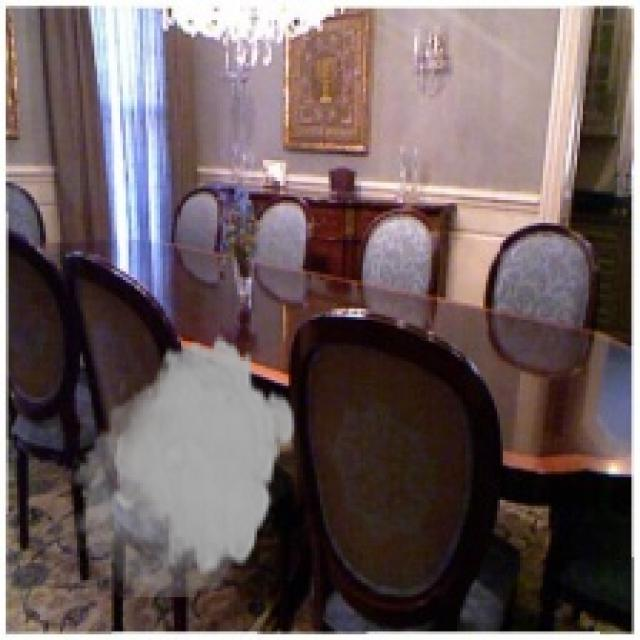smoke: (66, 332, 297, 597)
